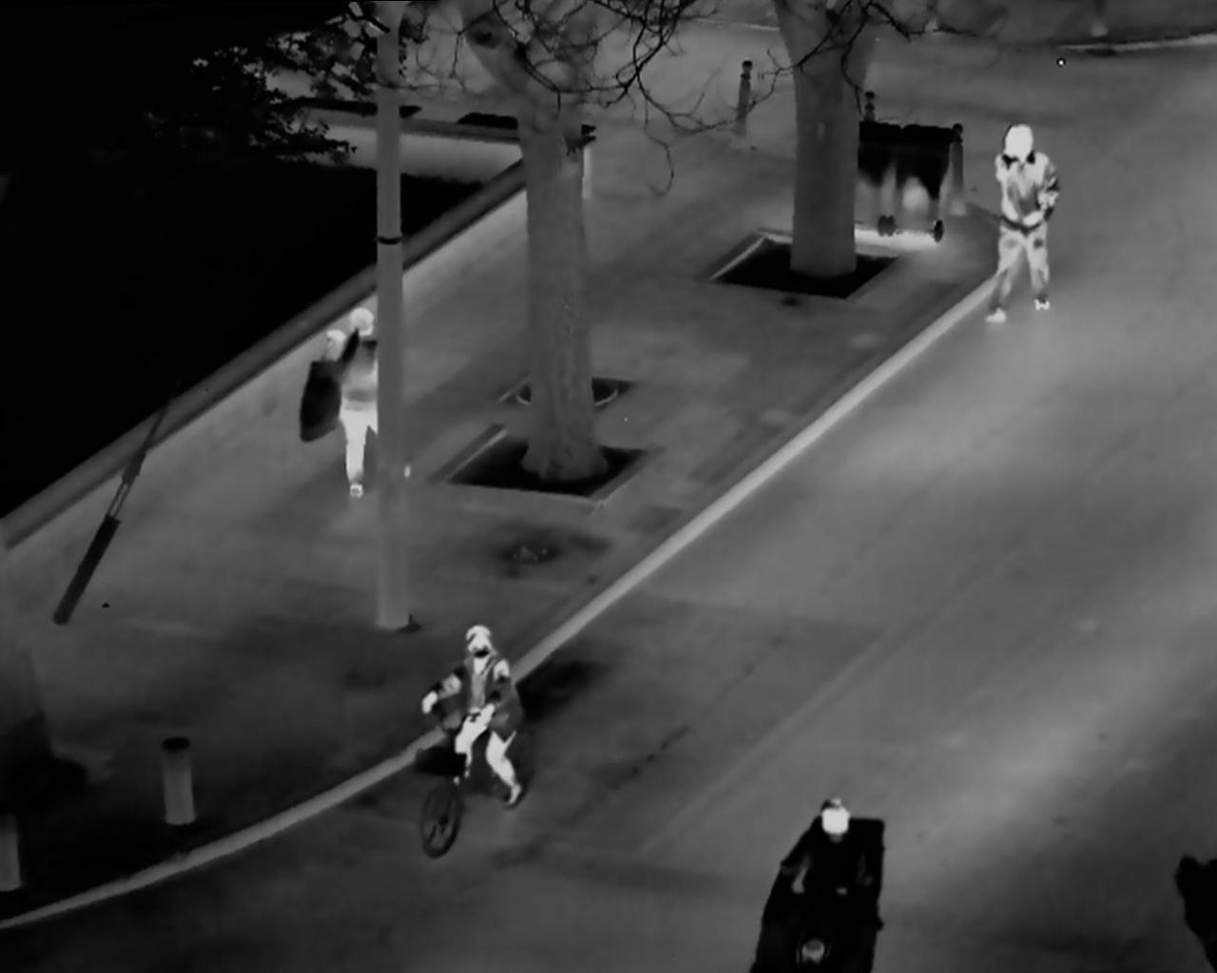person: (409, 603, 535, 818), (973, 118, 1072, 338), (776, 790, 890, 944), (322, 305, 402, 491)
